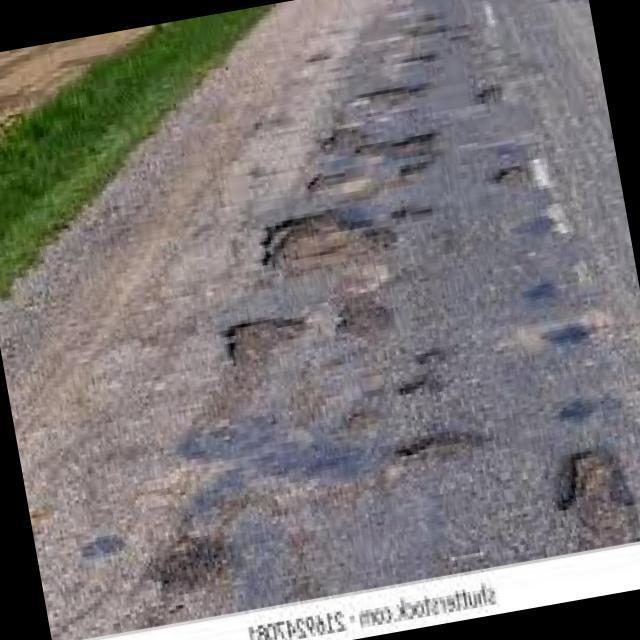Pothole: (239, 213, 396, 283)
